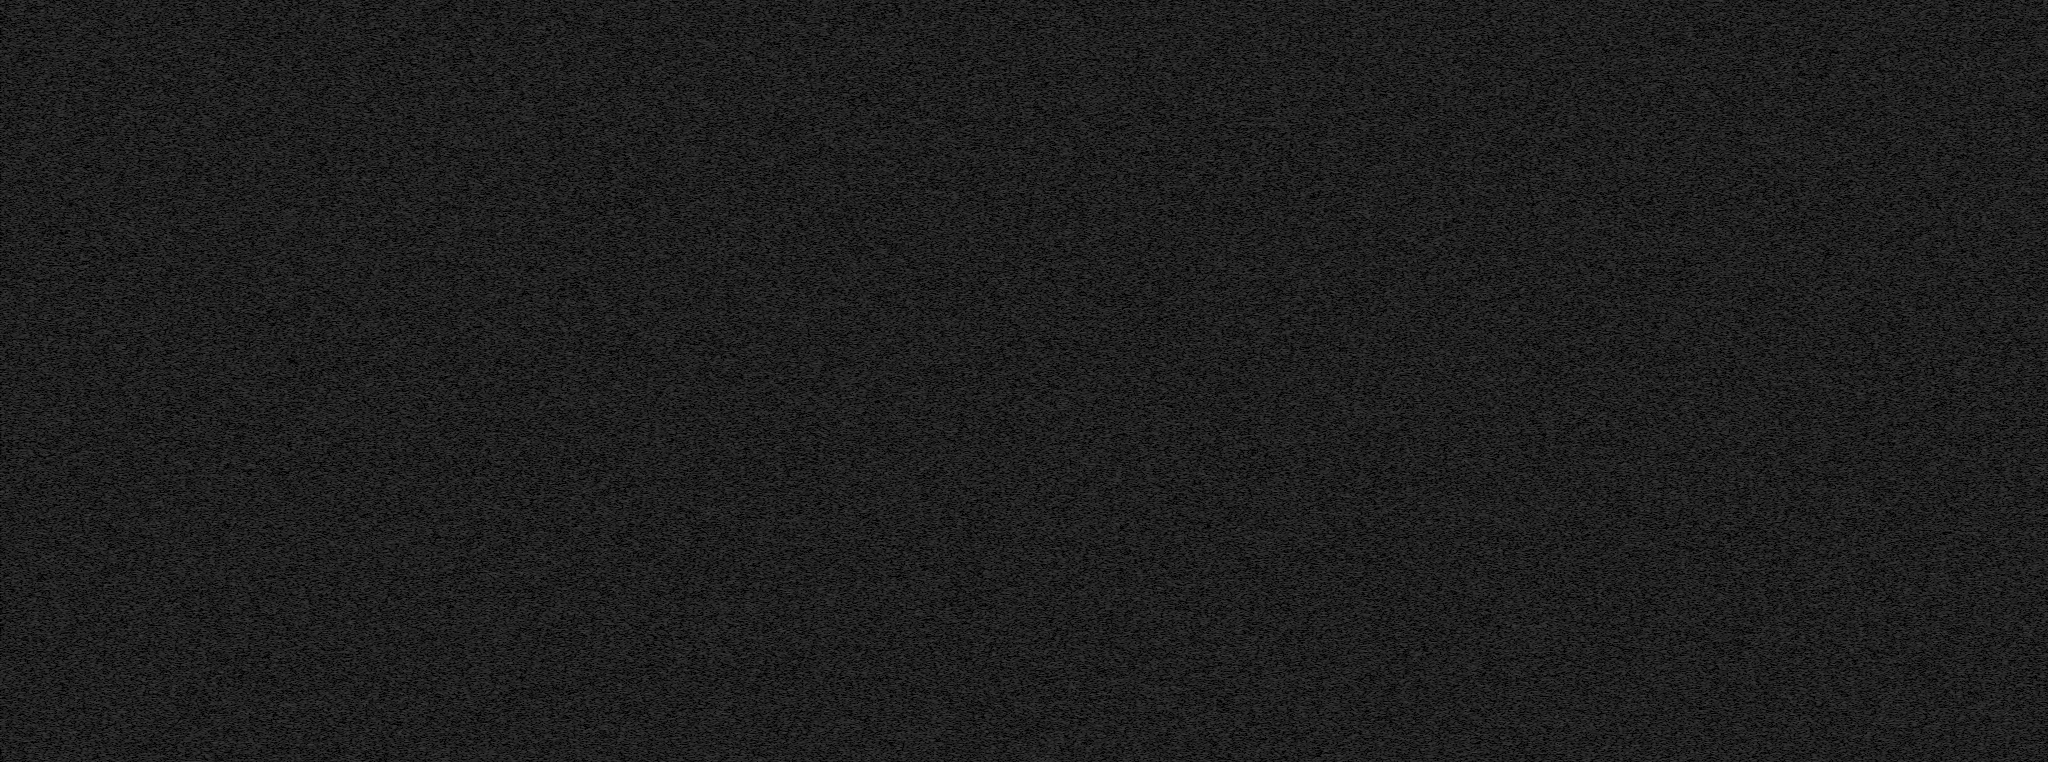wv_am: (1493, 0, 1498, 762), (78, 0, 84, 762)
wv_cw: (1539, 0, 1545, 762), (1142, 0, 1145, 762), (1479, 0, 1482, 762)
wv_usb: (1563, 610, 1567, 633), (1563, 569, 1567, 589), (1563, 657, 1567, 671), (1563, 599, 1567, 606), (1563, 740, 1567, 748), (1563, 651, 1567, 656), (1563, 634, 1567, 639), (1563, 728, 1567, 733), (1563, 689, 1567, 694), (1563, 646, 1567, 650), (1563, 640, 1567, 644), (1563, 606, 1567, 610), (1563, 735, 1567, 738), (1563, 697, 1567, 701), (1563, 684, 1567, 687)
wv_wbfm: (44, 0, 78, 762), (141, 0, 166, 762)
